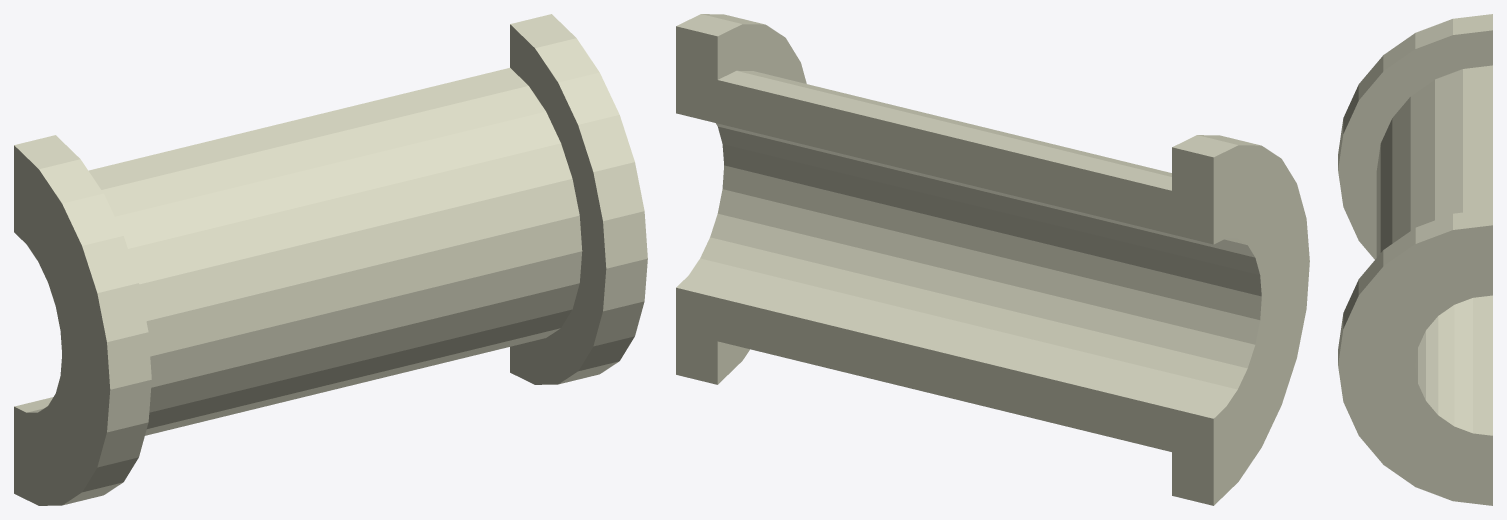
The model's file is section_017.obj.
3 renders of one model, left to right at view 1: azimuth 30°, elevation 25°; view 2: azimuth 150°, elevation 25°; view 3: azimuth 270°, elevation 25°, orthographic. The views are drawn at different scales.
Bounding box in the file's own units: 12.92 × 8 × 4.
